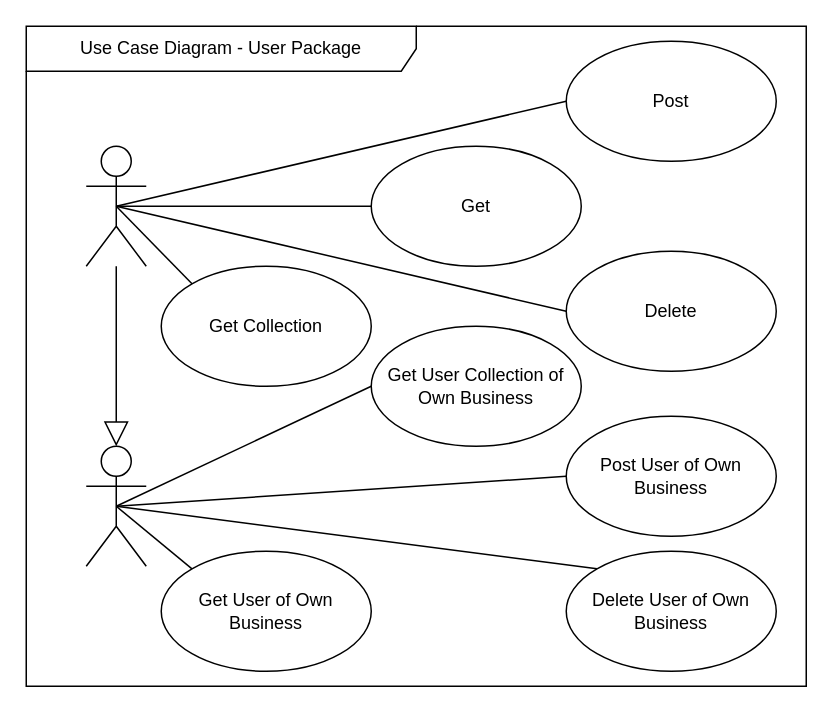
Image size: 833x713. Some labels were removed from this diagram. Each missing label, with the centre of its shape:
Admin: the point at 115,205
Client: the point at 115,505
